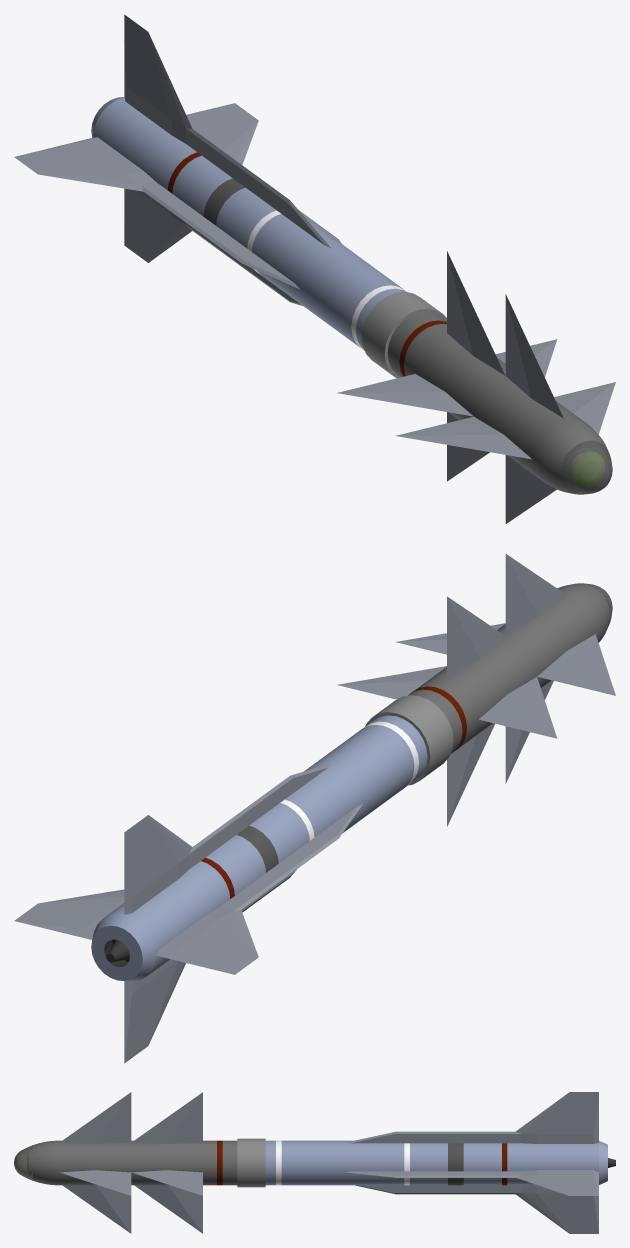
File: missile1.fbx
The picture shows the model from 3 angles, top to bottom: view 1: azimuth 30°, elevation 25°; view 2: azimuth 150°, elevation 25°; view 3: azimuth 270°, elevation 25°; orthographic projection. The views are drawn at different scales.
Visible parts, largest first — view 1: Componente_4 (×4), Componente_5, ID14 (×4), ID95, ID20 (×3), ID81, ID39, ID63, ID129, ID147, ID115, ID89 (+2 smaller); view 2: Componente_4 (×4), Componente_5, ID20 (×4), ID95, ID81, ID14 (×3), ID39, ID147, ID129, ID115, ID135, ID167; view 3: Componente_4 (×3), Componente_5, ID95, ID14 (×3), ID20 (×3), ID81, ID39, ID147, ID129, ID115, ID167, ID135 (+5 smaller).
Part boxes in pixels (bbox=[...]): Componente_4 (×4): bbox=[14, 14, 341, 305]; Componente_5: bbox=[404, 324, 606, 494]; ID14 (×4): bbox=[395, 294, 615, 523]; ID95: bbox=[252, 214, 403, 347]; ID20 (×3): bbox=[337, 251, 504, 481]; ID81: bbox=[91, 97, 196, 189]; ID39: bbox=[361, 291, 446, 378]; ID63: bbox=[560, 440, 612, 494]; ID129: bbox=[216, 187, 276, 270]; ID147: bbox=[172, 155, 232, 215]; ID115: bbox=[387, 312, 446, 377]; ID89: bbox=[560, 441, 610, 494]; Componente_4 (×4): bbox=[14, 763, 362, 1063]; Componente_5: bbox=[414, 583, 610, 748]; ID20 (×4): bbox=[337, 596, 557, 826]; ID95: bbox=[285, 725, 414, 837]; ID81: bbox=[91, 861, 230, 981]; ID14 (×3): bbox=[505, 554, 615, 783]; ID39: bbox=[365, 695, 453, 785]; ID147: bbox=[205, 835, 265, 895]; ID129: bbox=[249, 803, 309, 863]; ID115: bbox=[408, 689, 462, 754]; ID135: bbox=[366, 715, 427, 783]; ID167: bbox=[237, 825, 278, 872]; Componente_4 (×3): bbox=[345, 1092, 598, 1233]; Componente_5: bbox=[33, 1140, 216, 1185]; ID95: bbox=[281, 1140, 404, 1185]; ID14 (×3): bbox=[59, 1092, 131, 1233]; ID20 (×3): bbox=[131, 1092, 202, 1233]; ID81: bbox=[507, 1141, 607, 1185]; ID39: bbox=[237, 1138, 265, 1187]; ID147: bbox=[463, 1143, 501, 1185]; ID129: bbox=[410, 1143, 447, 1185]; ID115: bbox=[222, 1140, 237, 1185]; ID167: bbox=[448, 1143, 463, 1185]; ID135: bbox=[265, 1140, 275, 1185].
Size of the model in its own units: 30.31 by 117 by 30.31.
